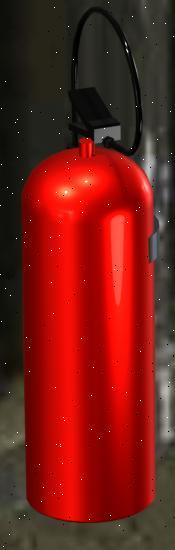Fire Extinguisher: (17, 16, 175, 529)
